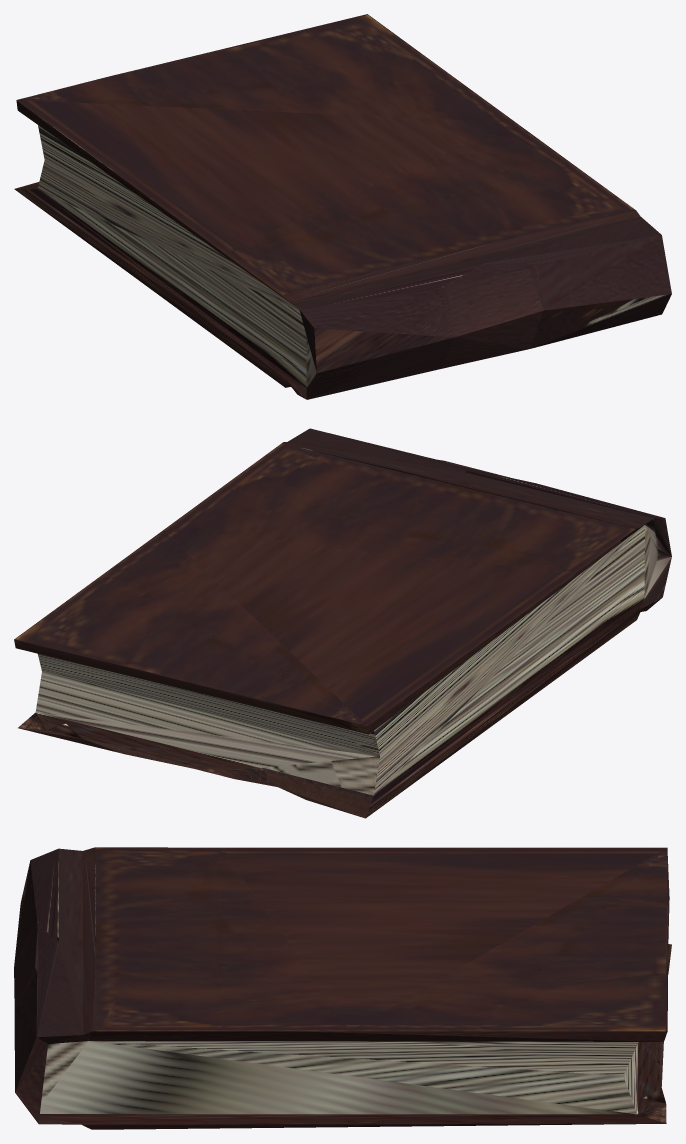
The model's file is Book_Family_Past.fbx.
3 renders of one model, top to bottom at view 1: azimuth 30°, elevation 25°; view 2: azimuth 150°, elevation 25°; view 3: azimuth 270°, elevation 25°, orthographic. The views are drawn at different scales.
Parts seen in each view (by area): view 1: Mesh_0; view 2: Mesh_0; view 3: Mesh_0.
Part boxes in pixels (x1=…): Mesh_0: x1=14, y1=14, x2=671, y2=399; Mesh_0: x1=14, y1=428, x2=671, y2=818; Mesh_0: x1=14, y1=847, x2=671, y2=1129.
Bounding box in the file's own units: 20 × 5 × 30.
1 material, 1 textured.
